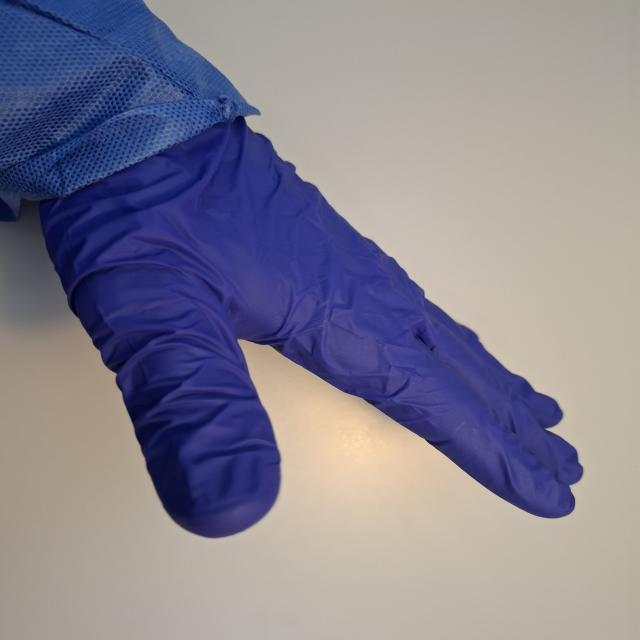glove_on: (33, 96, 590, 542)
